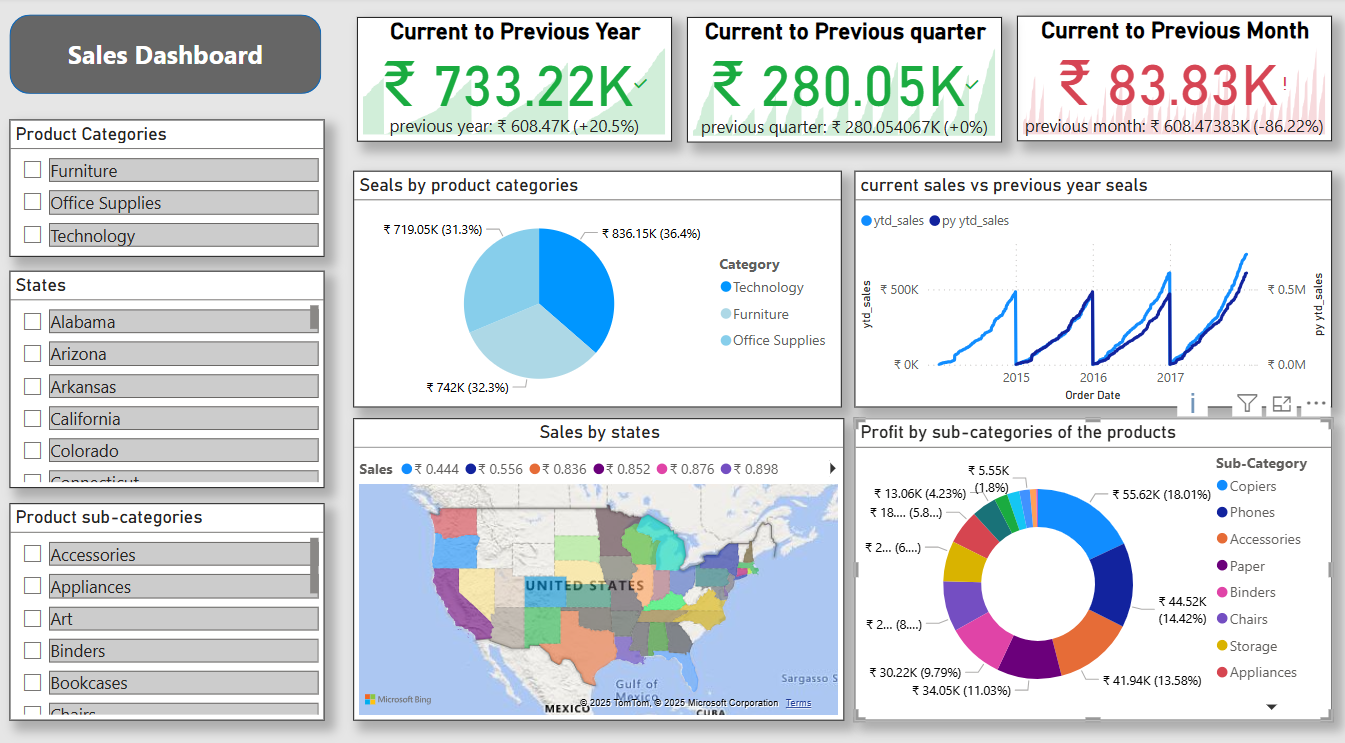

What the dashboard file says about the page in this screenshot:
{"tool":"powerbi","page":{"name":"Page 1","canvas":[1280,720],"ordinal":0},"visuals":[{"type":"kpi","title":"Current to Previous Year","fields":{"Indicator":["Measure_table.ytd_sales"],"Goal":["Measure_table.py ytd_sales"],"TrendLine":["Order_table.Order Date"]},"box":[342,19.1,299.1,118],"z":0},{"type":"kpi","title":"Current to Previous Month","fields":{"Goal":["Measure_table.py ytd_sales"],"TrendLine":["Order_table.Order Date"],"Indicator":["Measure_table.mtd_sales"]},"box":[969.1,17.7,299.1,119.4],"z":1000},{"type":"kpi","title":"Current to Previous quarter","fields":{"Goal":["Measure_table.py qtd sales"],"TrendLine":["Order_table.Order Date"],"Indicator":["Measure_table.QTD_sales"]},"box":[654.9,19.1,299.1,119.4],"z":2000},{"type":"shape","box":[12.3,16.5,296.4,75.5],"z":3000},{"type":"pieChart","title":"Seals by product categories","fields":{"Category":["Product_table.Category"],"Y":["Sum(Sales_table.Sales)"]},"box":[338.9,164.7,463.8,225],"z":4000},{"type":"lineChart","title":"current sales vs previous year seals","fields":{"Category":["Order_table.Order Date"],"Y":["Measure_table.ytd_sales"],"Y2":["Measure_table.py ytd_sales"]},"box":[814.5,165,453.6,224.4],"z":5000},{"type":"filledMap","title":"Sales by states","fields":{"Series":["Sales_table.Sales"],"Category":["Customer_table.State"]},"box":[338.4,400.1,466.6,287.3],"z":6000},{"type":"slicer","title":"Product Categories","fields":{"Values":["Product_table.Category"]},"box":[12.3,115.8,299.1,130.4],"z":7000},{"type":"slicer","title":"States","fields":{"Values":["Customer_table.State"]},"box":[11.9,260,299.2,206.6],"z":8000},{"type":"donutChart","title":"Profit by sub-categories of the products","fields":{"Y":["Sum(Sales_table.Profit)"],"Category":["Product_table.Sub-Category"]},"box":[814.5,400.1,453.6,287.3],"z":9000},{"type":"slicer","title":"Product sub-categories","fields":{"Values":["Product_table.Sub-Category"]},"box":[11.9,480.9,299.2,206.6],"z":10000}]}

Visuals, with their boxes in screenshot pixels (x1, y1, x2, y2), scaled from the page's 1280x720 canvas onto the 1345x743 screenshot:
"Current to Previous Year" kpi: x1=359 y1=20 x2=674 y2=141
"Current to Previous Month" kpi: x1=1018 y1=18 x2=1333 y2=141
"Current to Previous quarter" kpi: x1=688 y1=20 x2=1002 y2=143
shape: x1=13 y1=17 x2=324 y2=95
"Seals by product categories" pieChart: x1=356 y1=170 x2=843 y2=402
"current sales vs previous year seals" lineChart: x1=856 y1=170 x2=1332 y2=402
"Sales by states" filledMap: x1=356 y1=413 x2=846 y2=709
"Product Categories" slicer: x1=13 y1=119 x2=327 y2=254
"States" slicer: x1=13 y1=268 x2=327 y2=482
"Profit by sub-categories of the products" donutChart: x1=856 y1=413 x2=1332 y2=709
"Product sub-categories" slicer: x1=13 y1=496 x2=327 y2=709
